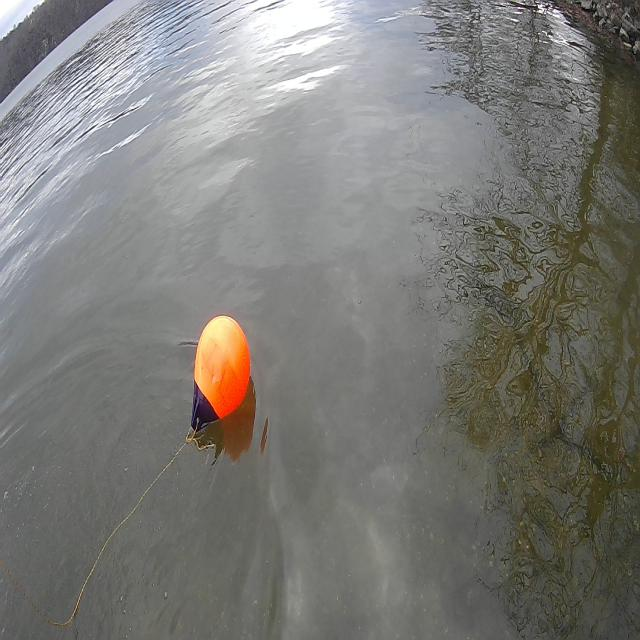Buoy: (183, 308, 256, 454)
